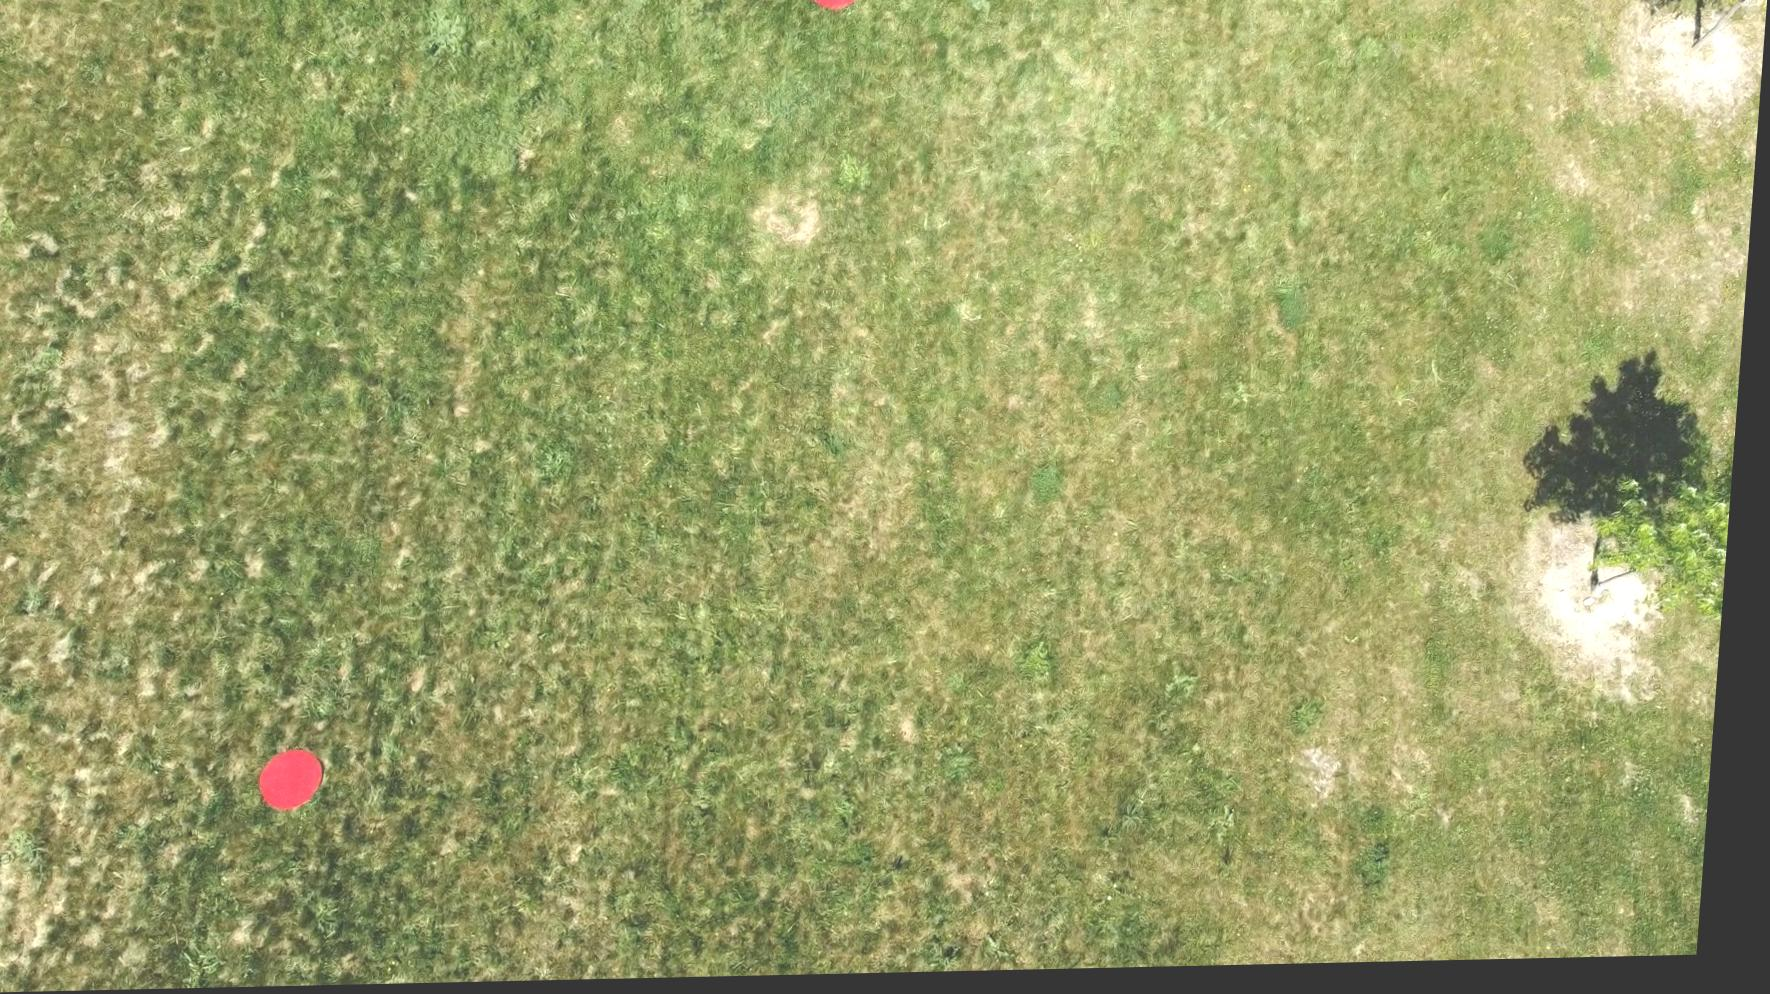Red: (264, 750, 340, 813), (801, 0, 864, 15)
